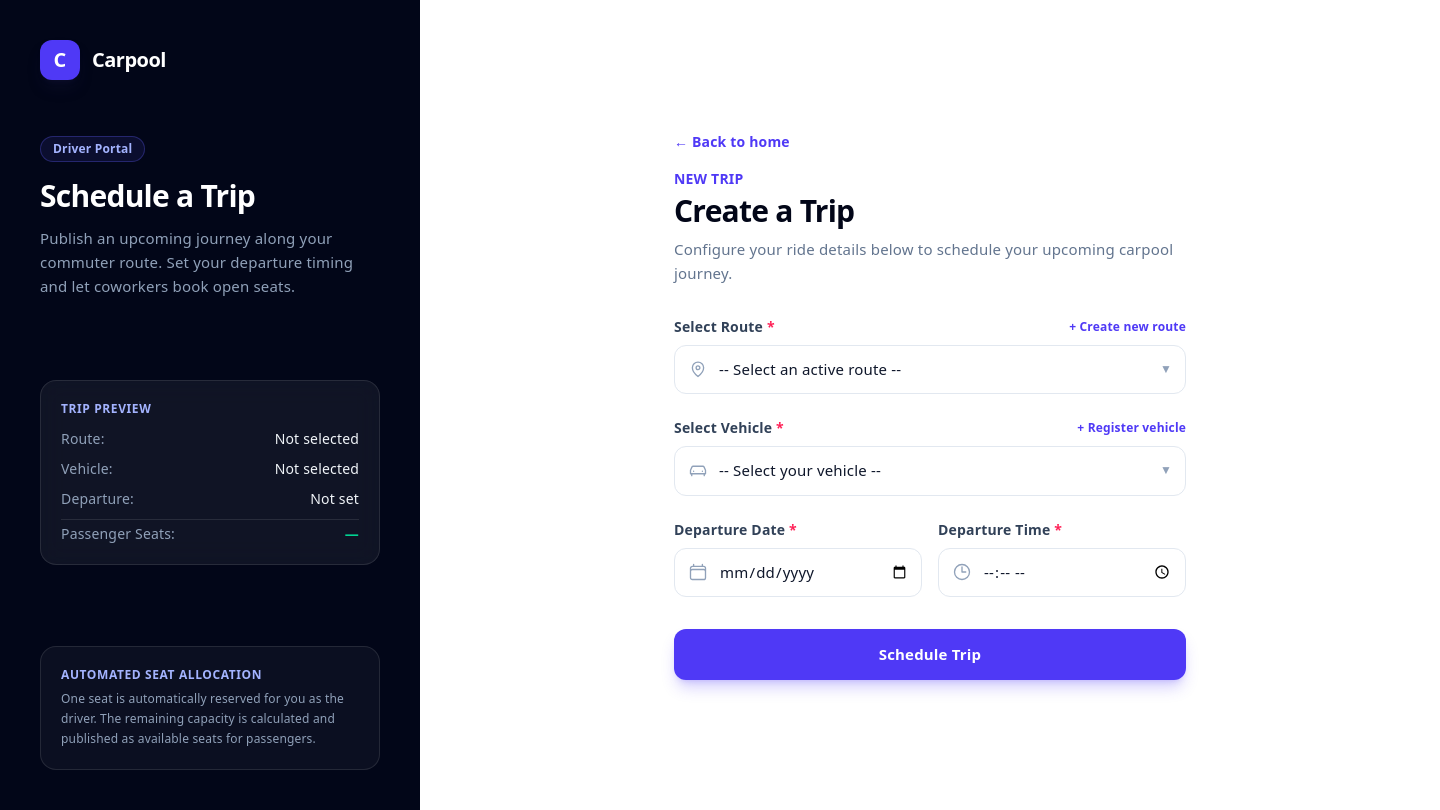
Scenario: CreateTripPage › renders page and shows validation errors on empty submission
This screenshot has width=1440, height=810.
Click the button "Schedule Trip". click: (930,654)
box: left=674, top=629, right=1186, bottom=680
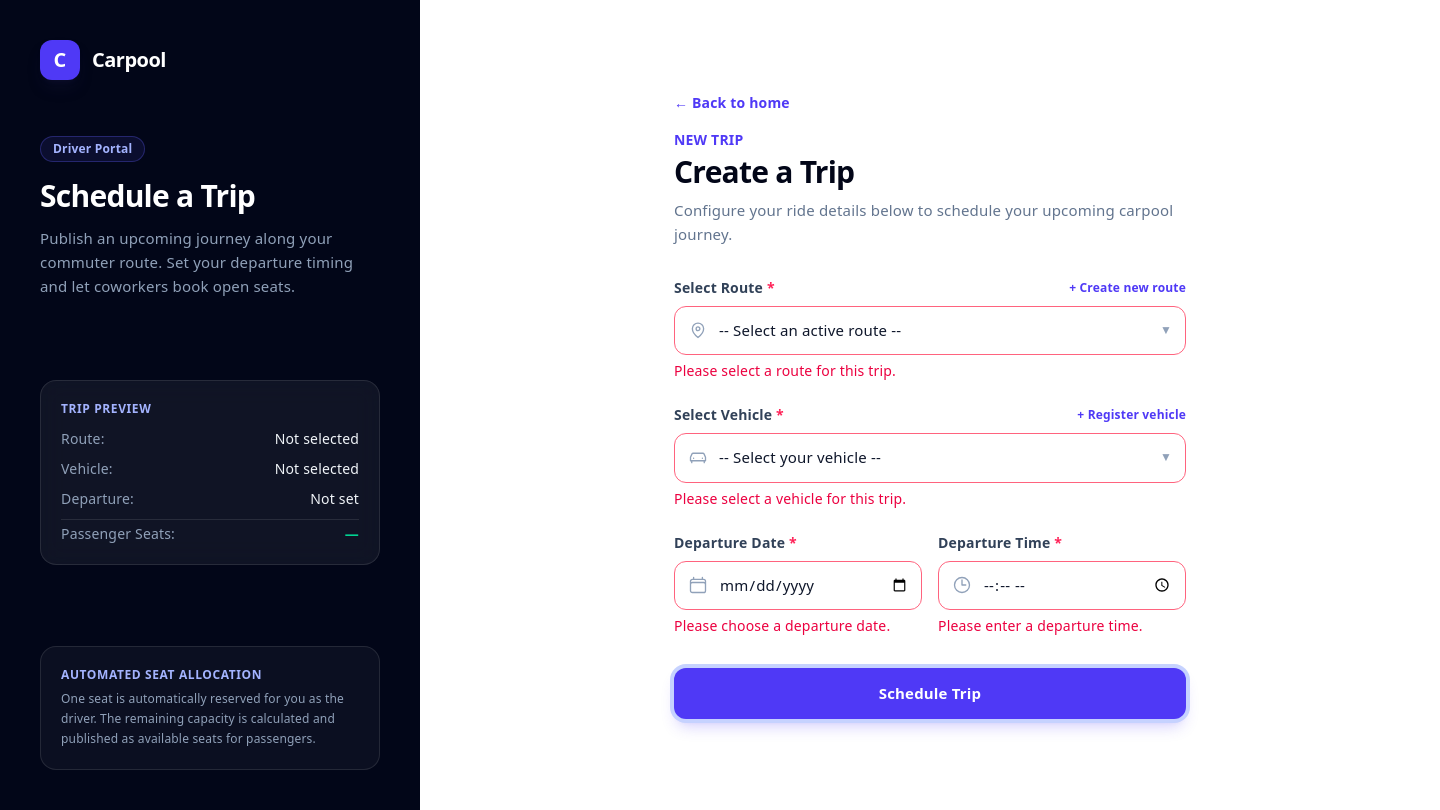
Now the text "Please select a route for this trip." is shown, box left=674, top=361, right=896, bottom=380
Now the text "Please select a vehicle for this trip." is shown, box left=674, top=489, right=906, bottom=508
Now the text "Please choose a departure date." is shown, box left=674, top=616, right=922, bottom=636
